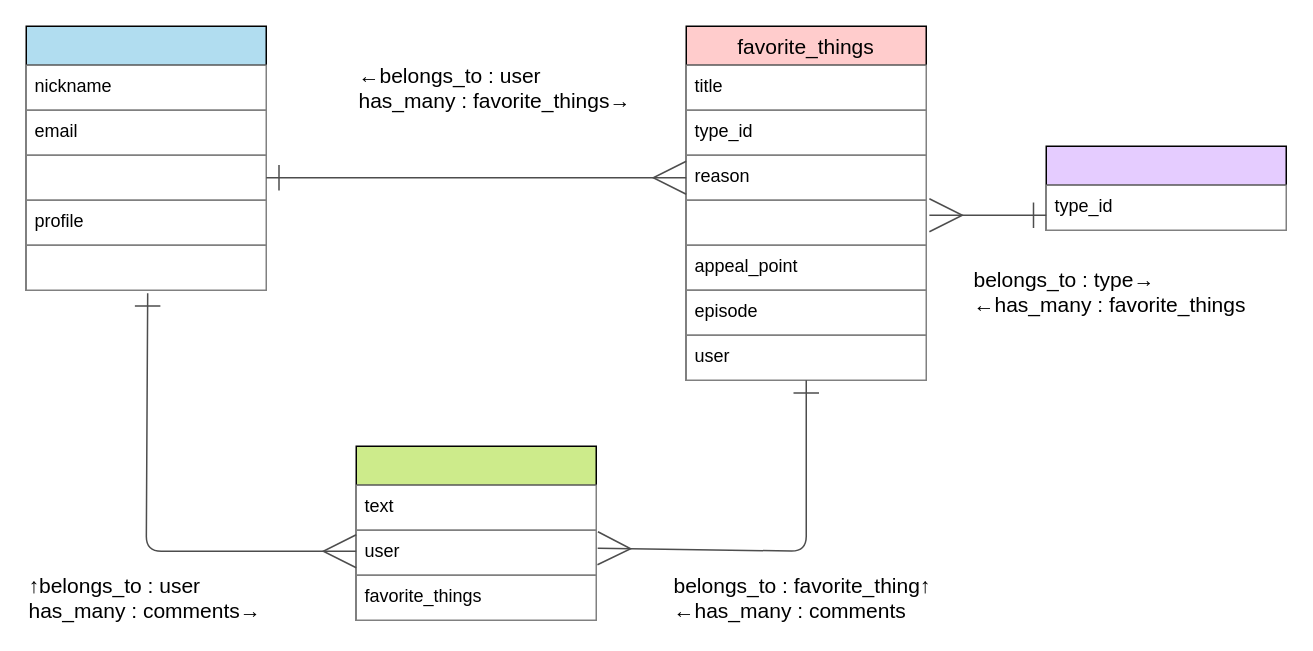
This 1313x651 diagram has some shape labels left out. The shapes that lost their labels are listed below. From the top down, each one's box as (x1, y1, x2, y2) in pixels, then its label:
(25, 25, 266, 290): users
(25, 154, 266, 200): encrypted_password
(1045, 145, 1286, 230): types
(685, 199, 926, 245): emotion
(25, 244, 266, 290): image
(355, 445, 596, 620): comments
